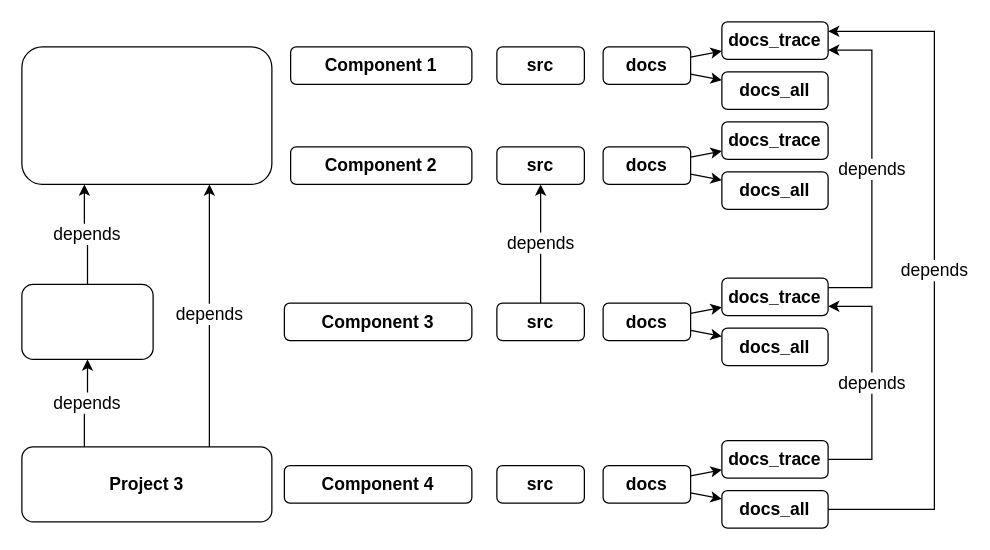
This 990x550 diagram has some shape labels left out. The centre of each missing label's shape, as x and y in pixels:
"Project 1" goes at point (146, 115).
"Project 2" goes at point (87, 321).
